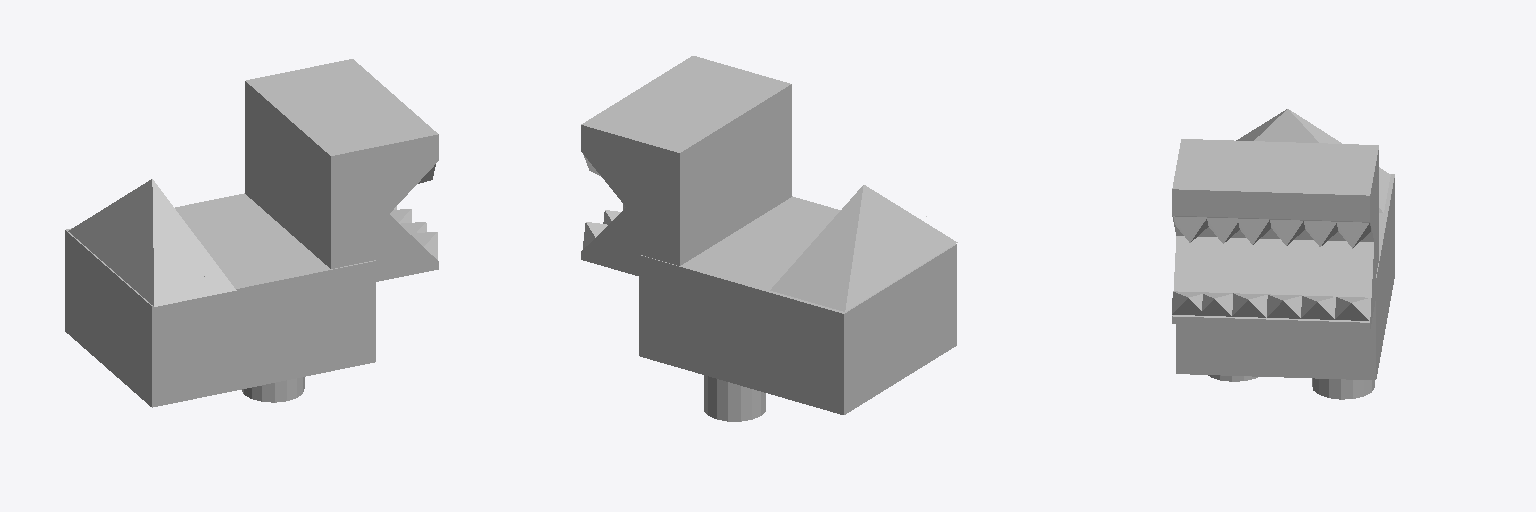
The model's file is dino2.obj.
3 views of the same model, side by side, from view 1: azimuth 30°, elevation 25°; view 2: azimuth 150°, elevation 25°; view 3: azimuth 270°, elevation 25° (orthographic).
Parts seen in each view (by area): view 1: new_model; view 2: new_model; view 3: new_model.
Part boxes in pixels (x1,y1,x2,y2): new_model: (65,59,438,407); new_model: (581,56,957,421); new_model: (1172,109,1394,399).
Bounding box in the file's own units: 0.8988 × 0.7587 × 0.6108.